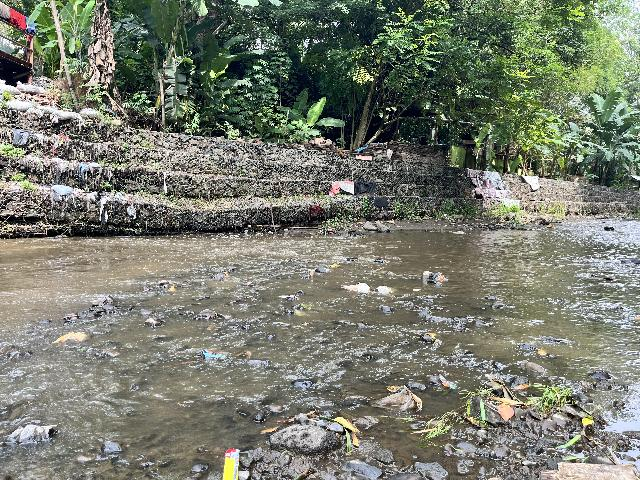Sampah Anorganik: (374, 390, 423, 414), (222, 445, 245, 480), (437, 371, 458, 391), (341, 283, 369, 294), (421, 271, 446, 283), (201, 349, 228, 360), (378, 284, 391, 295), (278, 295, 298, 302), (327, 264, 339, 269), (245, 282, 251, 285)
Sampah Organik: (265, 409, 366, 452), (469, 382, 575, 421), (544, 461, 640, 480), (221, 290, 259, 305), (52, 331, 86, 342), (291, 303, 313, 316), (425, 330, 441, 346), (234, 349, 252, 360), (300, 267, 314, 278), (58, 313, 78, 320), (532, 350, 546, 358), (205, 312, 216, 319), (168, 285, 175, 292), (224, 271, 231, 277)
